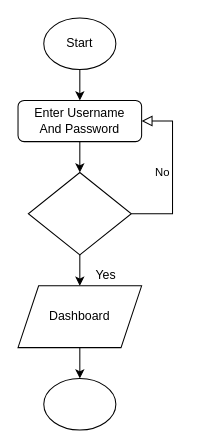
Image size: 201x448. Some labels were removed from this diagram. The shapes that lost their labels are listed below. From the top down, each one's box as (x1, y1, x2, y2) in pixels, then its label:
(27, 171, 131, 255): Verify
(43, 377, 116, 430): Stop
